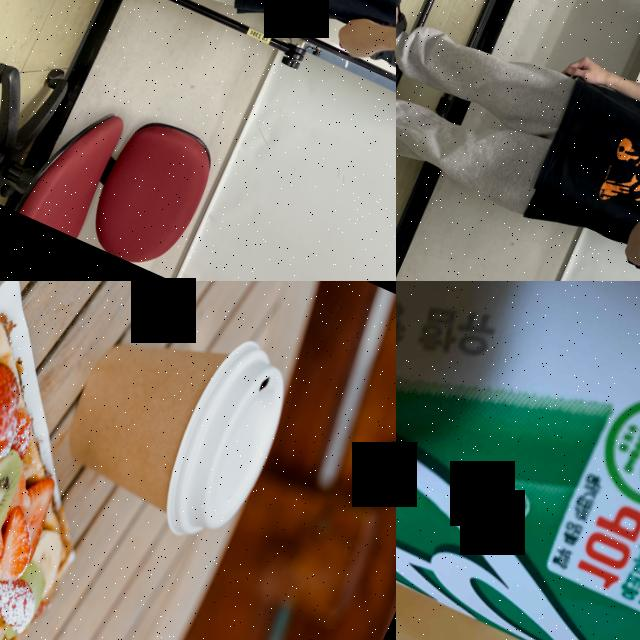can: (396, 281, 640, 640)
cup: (38, 284, 306, 556)
